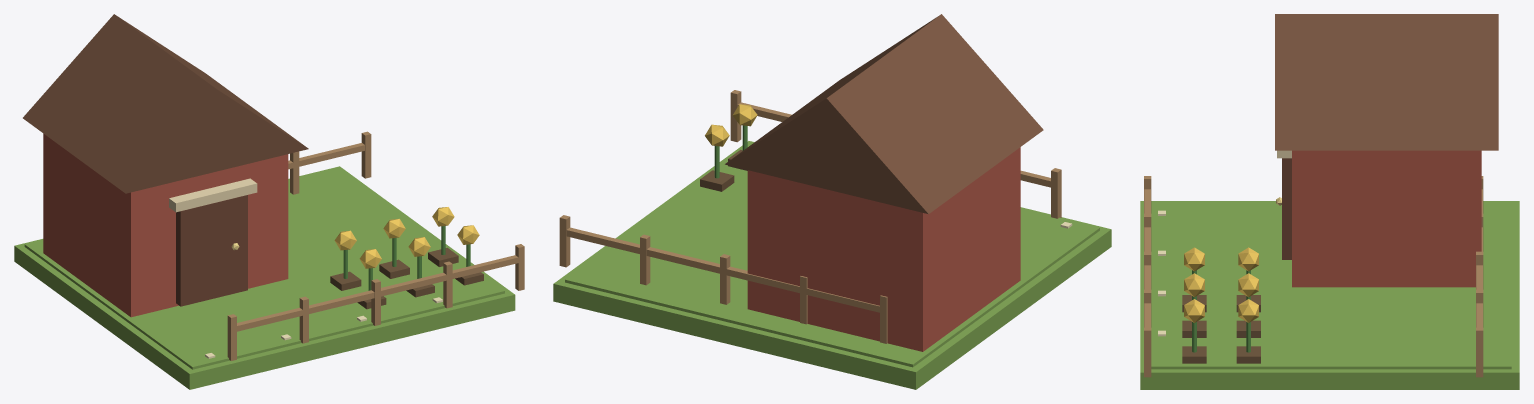
The model's file is farm-lv1.obj.
3 renders of one model, left to right at view 1: azimuth 30°, elevation 25°; view 2: azimuth 150°, elevation 25°; view 3: azimuth 270°, elevation 25°, orthographic. The views are drawn at different scales.
Parts seen in each view (by area): view 1: farm_0, farm_3, farm_2, farm_4, farm_10, farm_9, farm_7, farm_5, farm_8; view 2: farm_2, farm_0, farm_3, farm_10, farm_9, farm_7; view 3: farm_0, farm_3, farm_2, farm_10, farm_9, farm_7, farm_4, farm_8.
Part boxes in pixels (x1,y1,x2,y2): farm_0: (14,166,515,389); farm_3: (23,14,308,193); farm_2: (43,133,288,317); farm_4: (176,195,247,306); farm_10: (227,131,524,360); farm_9: (334,207,479,268); farm_7: (330,247,483,309); farm_5: (169,178,257,212); farm_8: (343,226,470,290); farm_2: (747,147,1020,351); farm_0: (553,141,1111,389); farm_3: (725,14,1043,214); farm_10: (559,90,1061,343); farm_9: (705,104,757,146); farm_7: (700,149,747,191); farm_0: (1140,201,1519,389); farm_3: (1275,14,1498,150); farm_2: (1292,150,1481,287); farm_10: (1144,176,1483,377); farm_9: (1184,247,1258,322); farm_7: (1182,295,1260,363); farm_4: (1282,158,1291,259); farm_8: (1192,270,1250,352).
Size of the model in its own units: 3.12 by 2.05 by 2.8.
